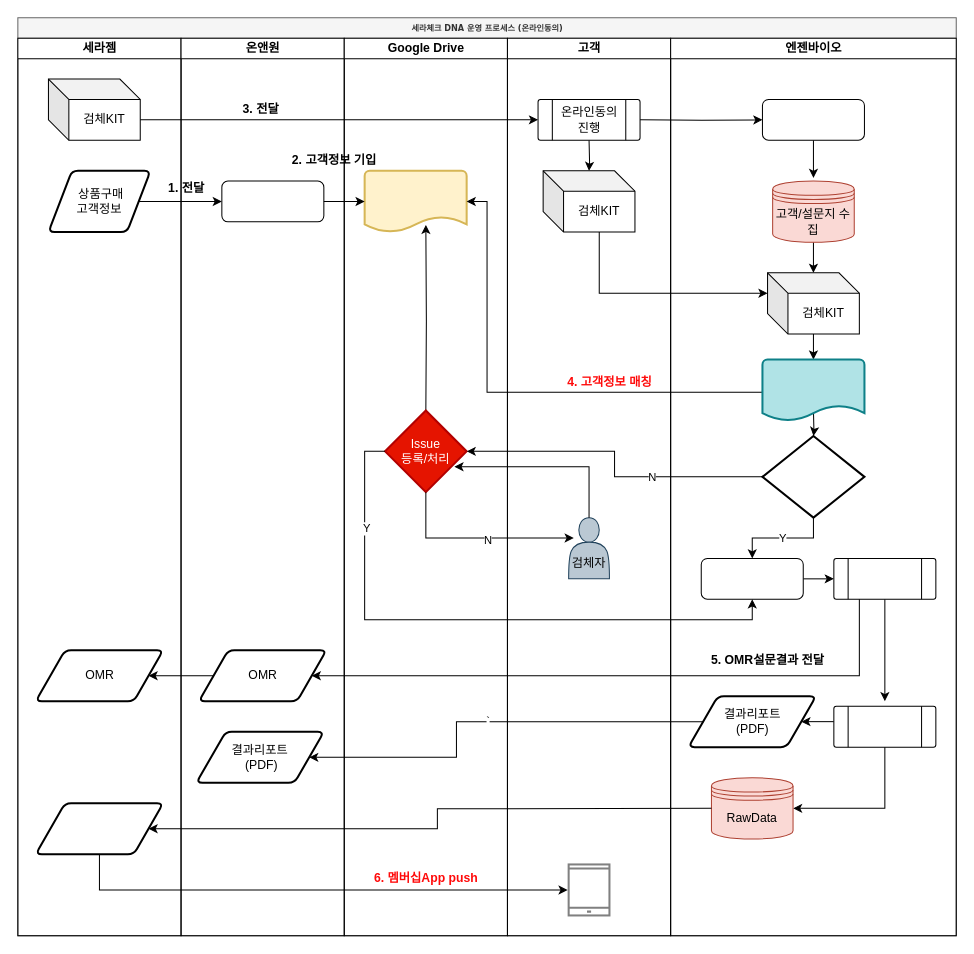
This 974x954 diagram has some shape labels left out. Here are the shapes that lost their labels. From the top down, the centre of each, then its label:
(812,119): 설문지 WEB
(272,201): 고객정보 취합
(415,201): 고객관리 Sheet
(813,389): 유전자검사 의뢰서
(813,476): 서류 유효성검사
(751,578): 검체KIT 입고
(884,578): OMR처리
(884,726): 시퀀싱/분석
(99,828): 결과리포트 (JSON)
